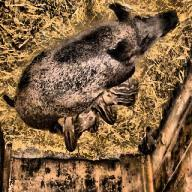boar: (3, 4, 178, 153)
